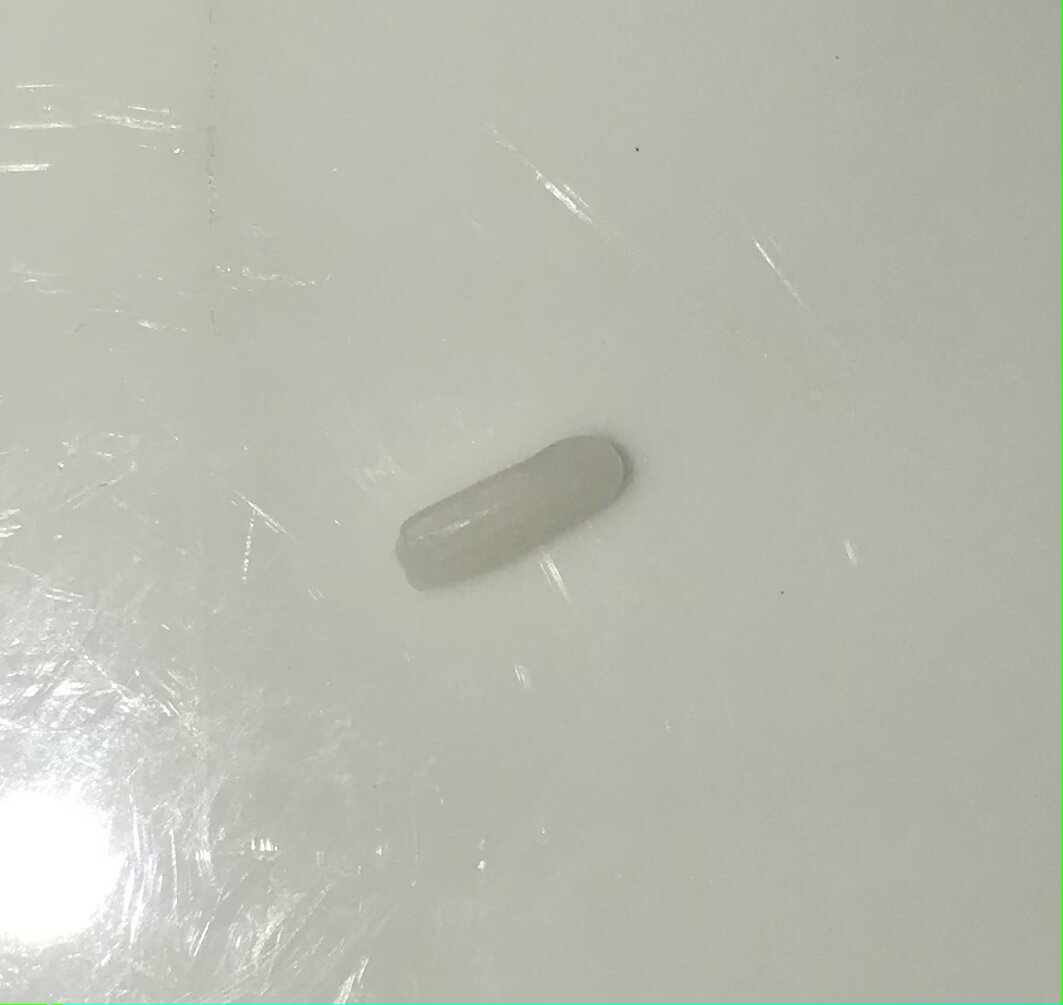Gao Lai Sua: (377, 429, 638, 592)
